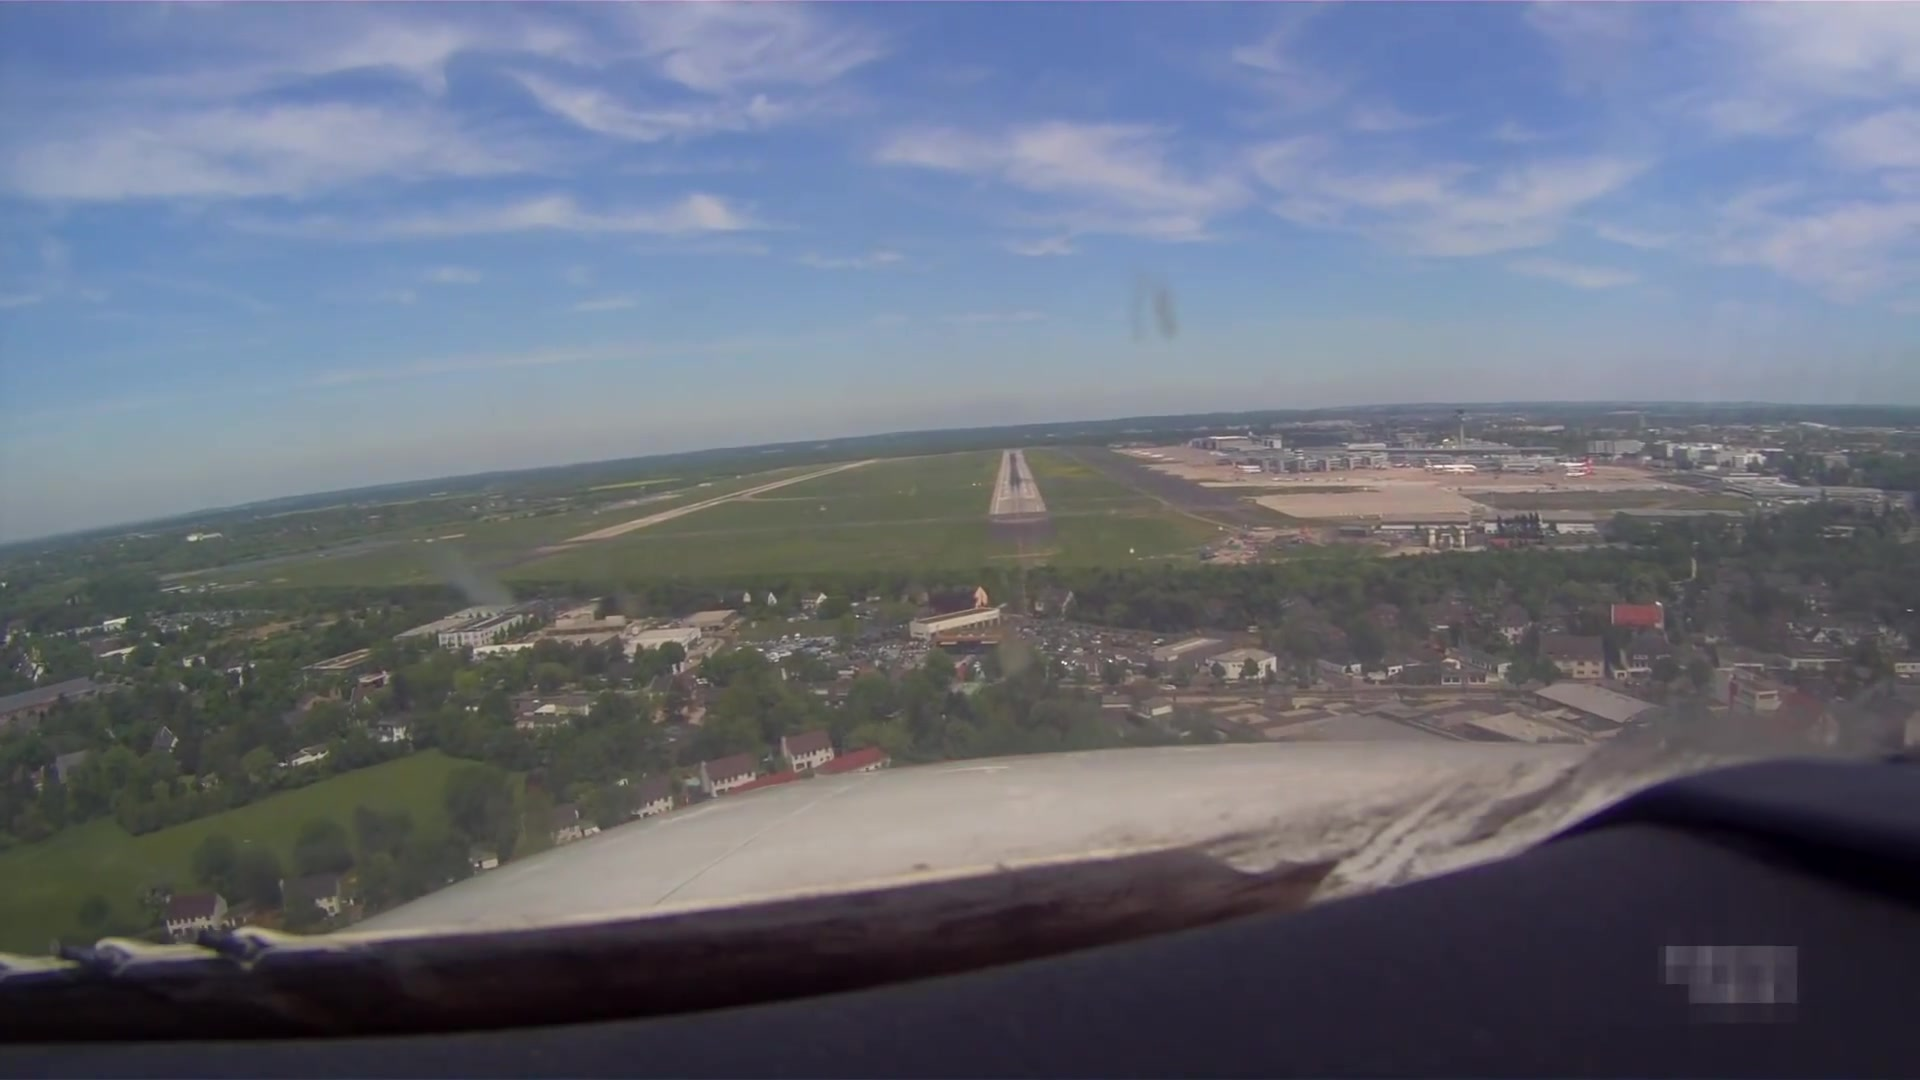runway: (989, 450, 1044, 516)
